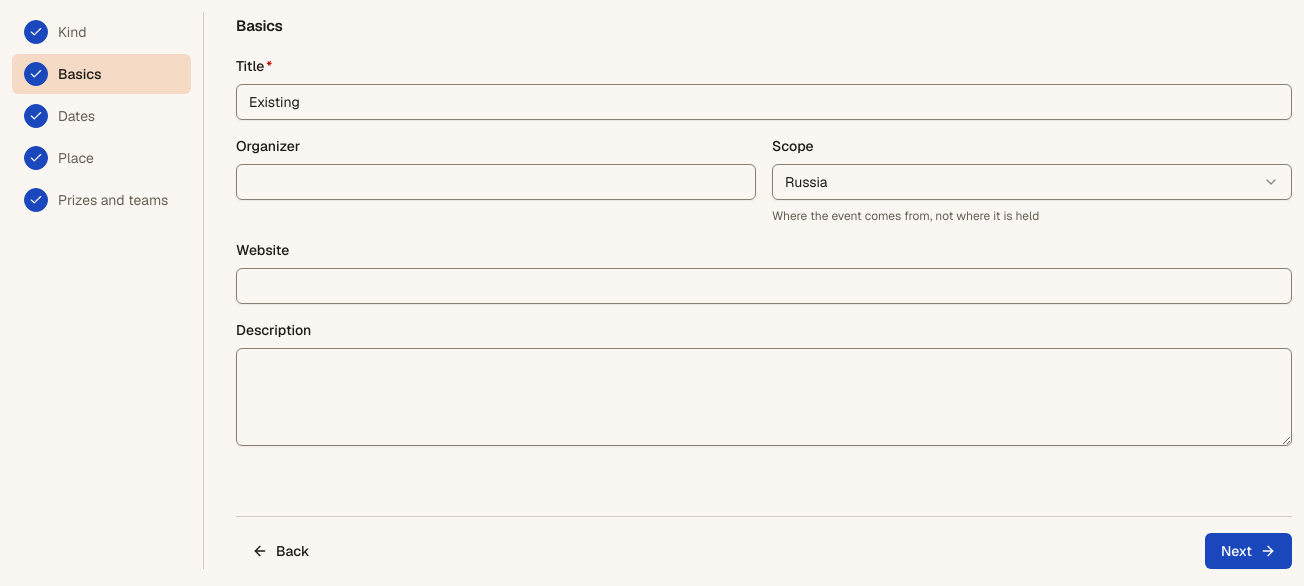
Test: the place fields follow the format on both forms › shows the country and the city for an on-site hackathon
What coordinates should you click on to do the following:
click the button "Place"
I would click on:
 (102, 158)
Its box is [12, 138, 191, 178].
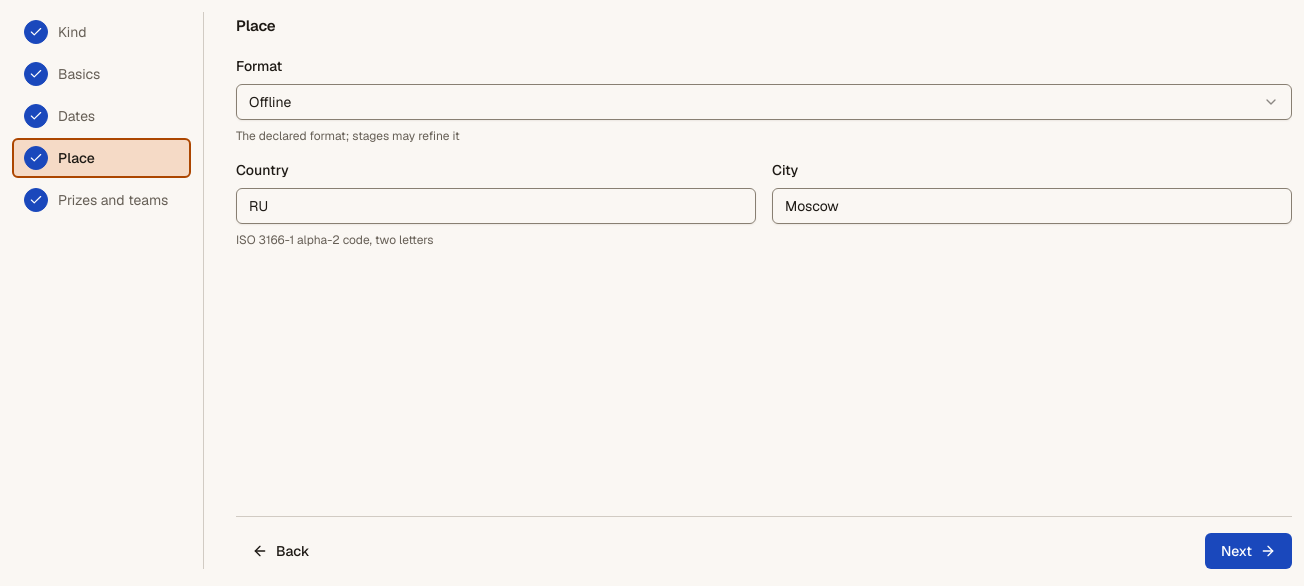
Now the field with id "event-country" holds "RU", box [236, 188, 756, 224]
Now the field with id "event-city" holds "Moscow", box [772, 188, 1292, 224]
